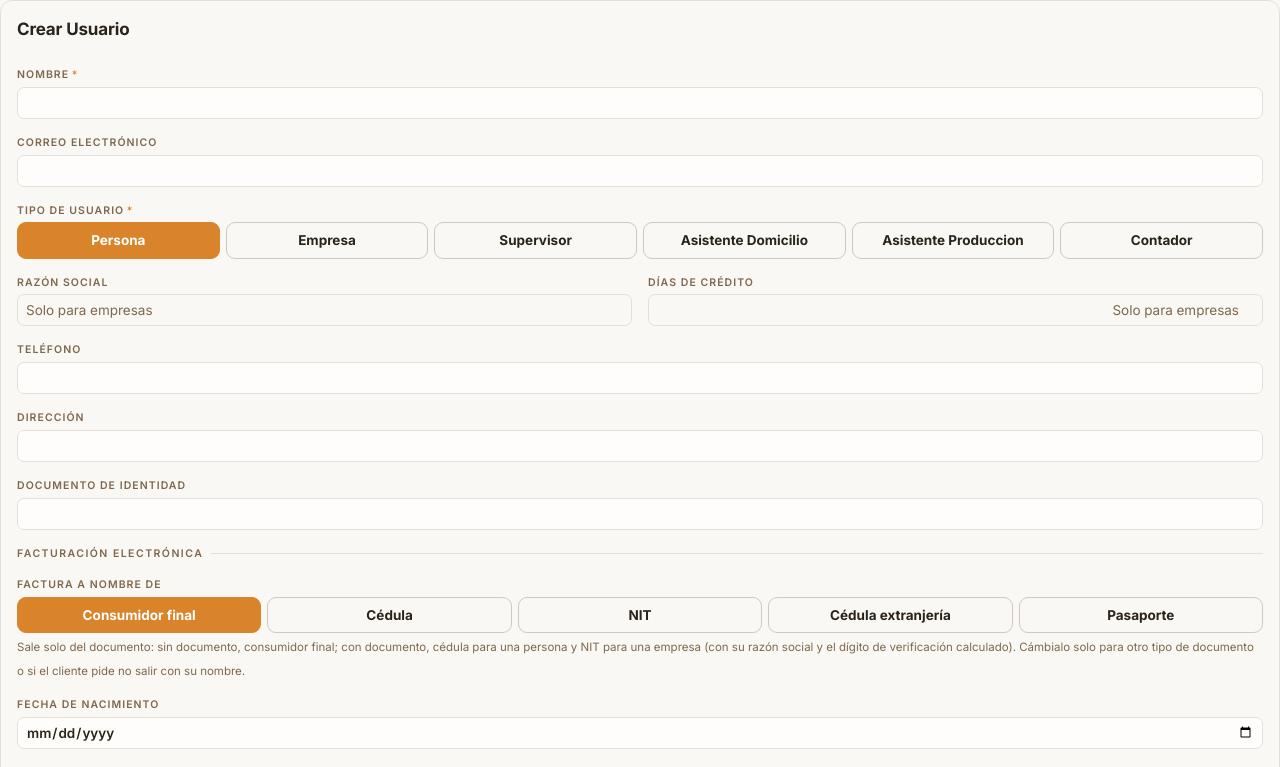
Test: BakeryUserForm validation › blocks a production without email
Click the radio button labelled "Asistente Produccion". click: (953, 240)
box: [852, 222, 1054, 259]
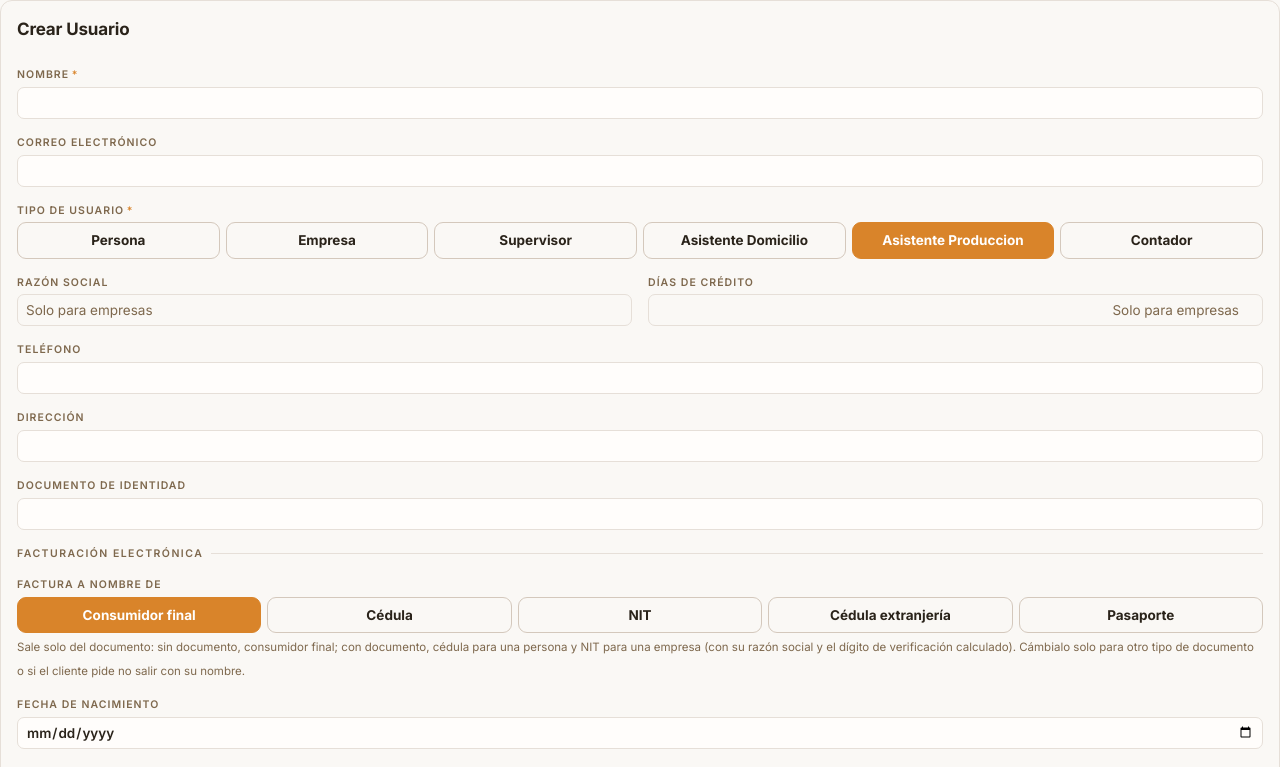
Type "Ana Prueba" into the field labelled "Nombre". click: (640, 103)
box: [17, 87, 1263, 119]
(page scrolled)
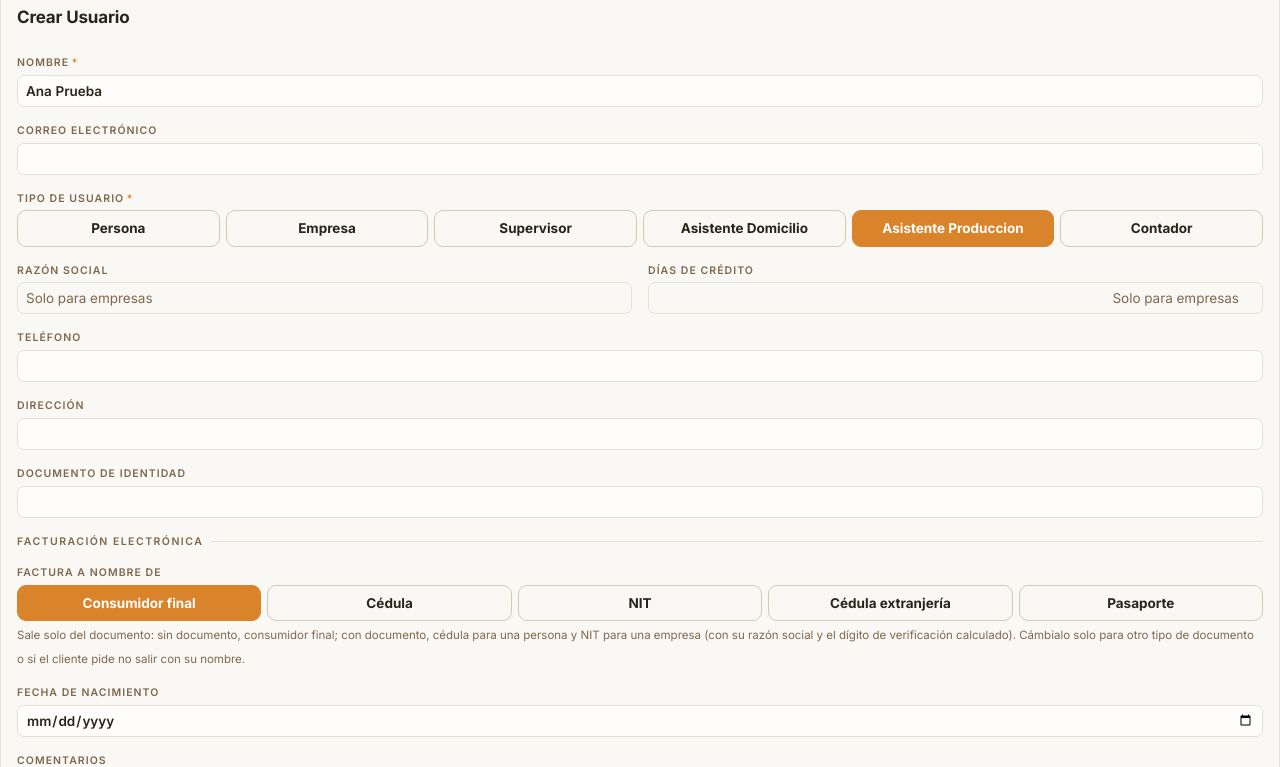
Submit the form
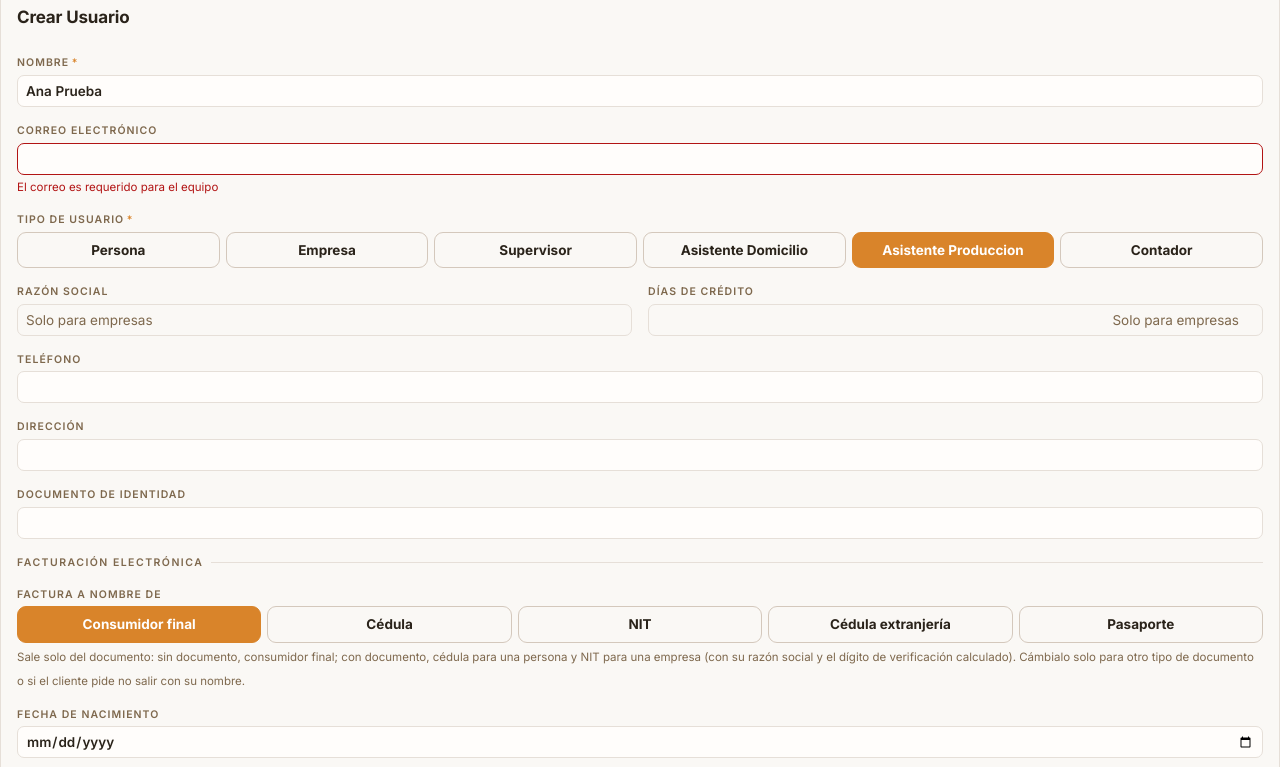
expect the text "El correo es requerido para el equipo" is shown: met, box [17, 180, 218, 194]
